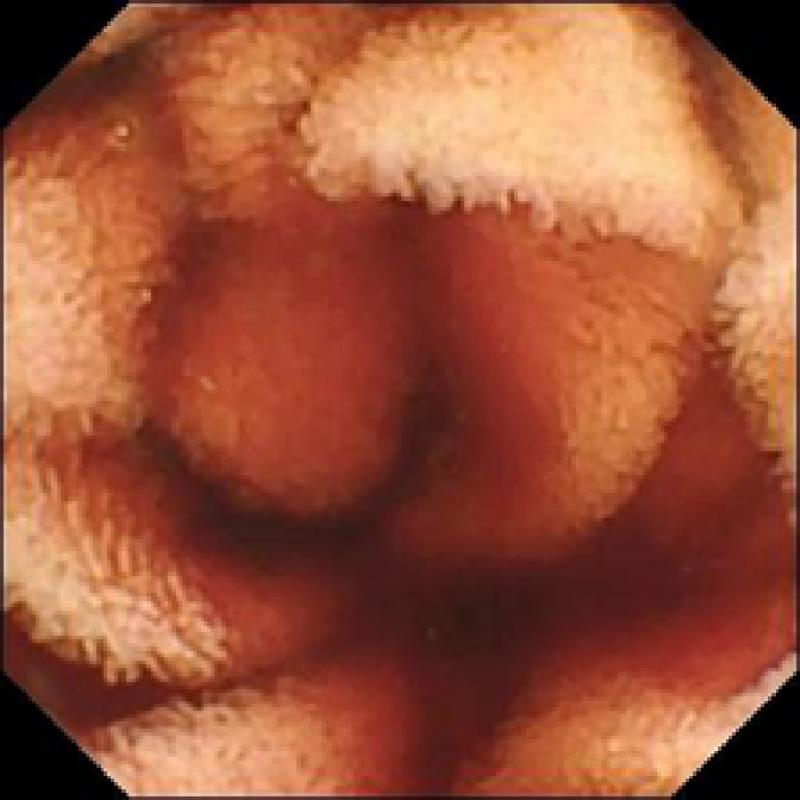bleeding: (21, 203, 799, 800)
